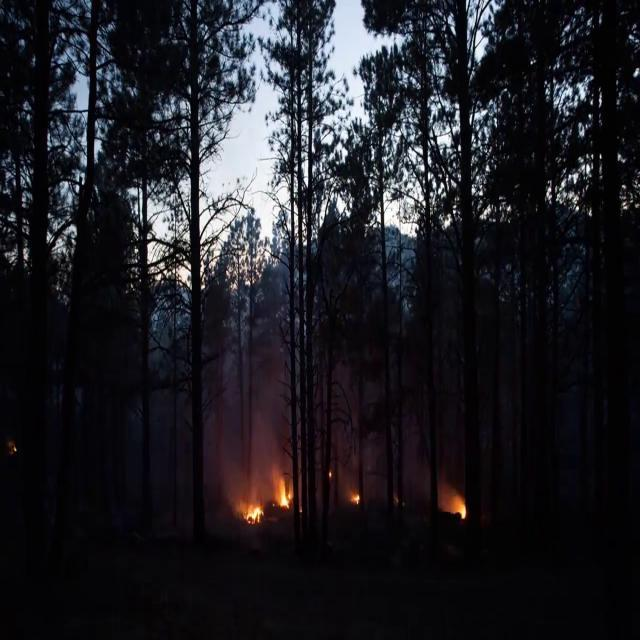Fire: (274, 477, 292, 511), (242, 503, 266, 524), (454, 494, 466, 519), (350, 492, 360, 504)
Smoke: (252, 290, 288, 474), (206, 356, 246, 484), (398, 401, 433, 523)
